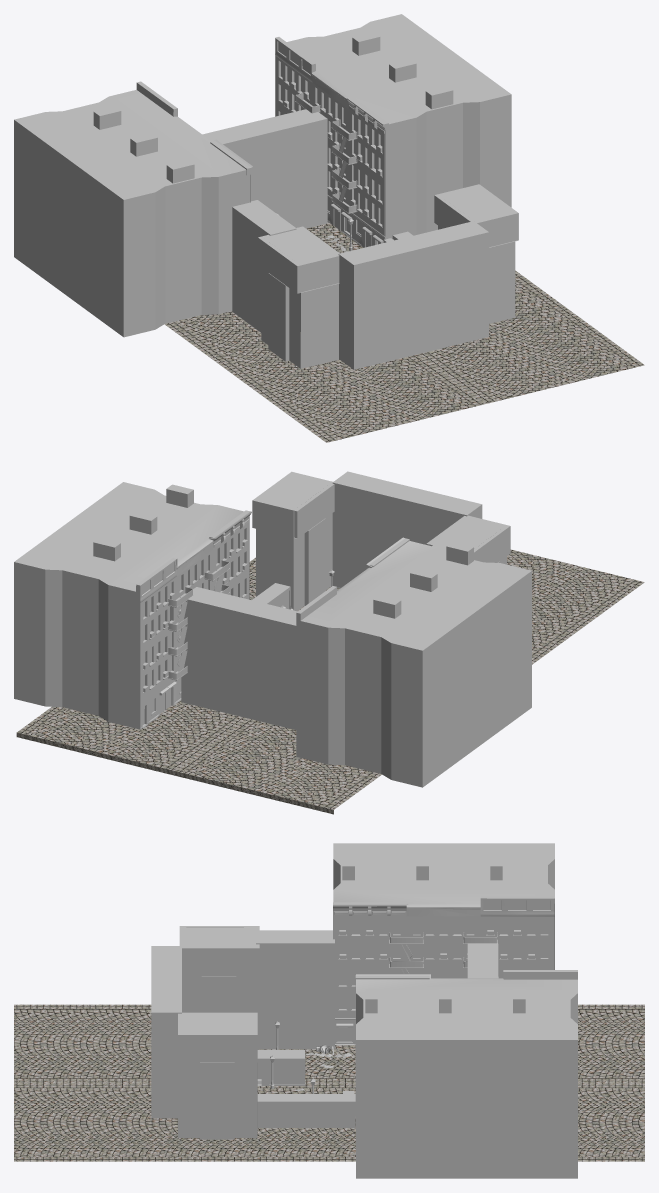
Rendered from nyc back street env.fbx.
The picture shows the model from 3 angles, top to bottom: view 1: azimuth 30°, elevation 25°; view 2: azimuth 150°, elevation 25°; view 3: azimuth 270°, elevation 25°; orthographic projection.
Visible parts, largest first — view 1: low_poly (×2), Cube_004, Windows_UBM_Tanner_Building_03, Cube_022_1, back_street:Cube_009, back_street:Cube_009__1_, back_street:Cube_009__4_, Cube_022__1_, back_street:Cube_009__2_, back_street:Cube_009__3_; view 2: low_poly (×2), Cube_004, Windows_UBM_Tanner_Building_03, Cube_022__1_, back_street:Cube_009__4_, back_street:Cube_009__1_, back_street:Cube_009__3_, back_street:Cube_009, Cube_022_1, Cube_002_1; view 3: low_poly (×2), Cube_004, building_2, Cube_022__1_, back_street:Cube_009__2_, Cube_022_1, back_street:Cube_009__1_, Cube_002_1, Cube_002__1_, Cube_018_1, back_street:Cube_009__3_, back_street:Cube_009 (+1 smaller).
Part boxes in pixels (left/top/right/bottom): low_poly (×2): left=14, top=14, right=511, bottom=337; Cube_004: left=164, top=222, right=644, bottom=442; Windows_UBM_Tanner_Building_03: left=275, top=38, right=388, bottom=247; Cube_022_1: left=258, top=226, right=339, bottom=368; back_street:Cube_009: left=338, top=237, right=421, bottom=369; back_street:Cube_009__1_: left=406, top=221, right=488, bottom=352; back_street:Cube_009__4_: left=245, top=109, right=327, bottom=228; Cube_022__1_: left=434, top=184, right=518, bottom=323; back_street:Cube_009__2_: left=232, top=200, right=296, bottom=332; back_street:Cube_009__3_: left=202, top=124, right=259, bottom=201; low_poly (×2): left=14, top=482, right=531, bottom=787; Cube_004: left=16, top=549, right=644, bottom=814; Windows_UBM_Tanner_Building_03: left=140, top=510, right=251, bottom=729; Cube_022__1_: left=252, top=471, right=334, bottom=611; back_street:Cube_009__4_: left=181, top=587, right=263, bottom=718; back_street:Cube_009__1_: left=332, top=471, right=414, bottom=588; back_street:Cube_009__3_: left=249, top=603, right=297, bottom=729; back_street:Cube_009: left=399, top=488, right=482, bottom=544; Cube_022_1: left=426, top=515, right=510, bottom=564; Cube_002_1: left=252, top=583, right=290, bottom=609; low_poly (×2): left=333, top=843, right=577, bottom=1178; Cube_004: left=14, top=1004, right=644, bottom=1161; building_2: left=333, top=898, right=554, bottom=1045; Cube_022__1_: left=178, top=1012, right=257, bottom=1139; back_street:Cube_009__2_: left=256, top=930, right=334, bottom=1049; Cube_022_1: left=179, top=926, right=259, bottom=1049; back_street:Cube_009__1_: left=151, top=979, right=181, bottom=1118; Cube_002_1: left=257, top=1094, right=306, bottom=1128; Cube_002__1_: left=306, top=1094, right=355, bottom=1128; Cube_018_1: left=257, top=1050, right=305, bottom=1085; back_street:Cube_009__3_: left=467, top=943, right=498, bottom=976; back_street:Cube_009: left=151, top=946, right=181, bottom=979.
Bounding box in the file's own units: 6300 × 2441 × 8538.
